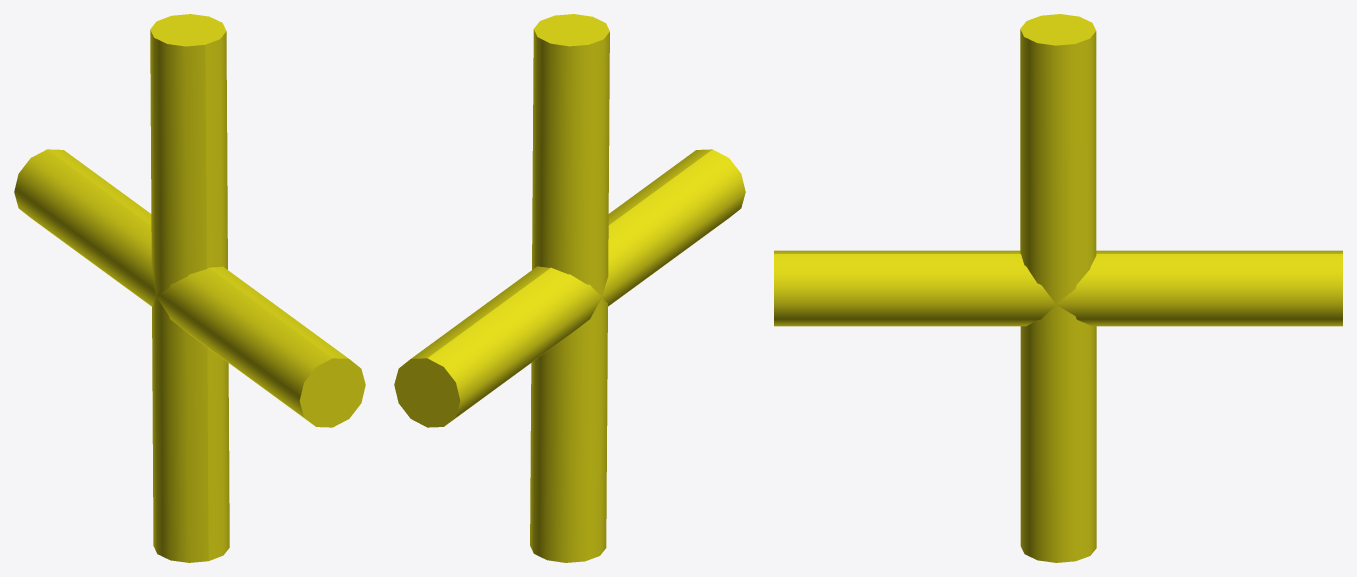
The model's file is PipeSM1.fbx.
3 renders of one model, left to right at view 1: azimuth 30°, elevation 25°; view 2: azimuth 150°, elevation 25°; view 3: azimuth 270°, elevation 25°, orthographic.
Visible parts, largest first — view 1: PipeSM1; view 2: PipeSM1; view 3: PipeSM1.
Boxes of the visible parts, <box> form: PipeSM1: <box>14,14,365,562</box>; PipeSM1: <box>394,14,745,562</box>; PipeSM1: <box>774,14,1342,562</box>.
Size of the model in its own units: 14.07 by 100 by 100.
